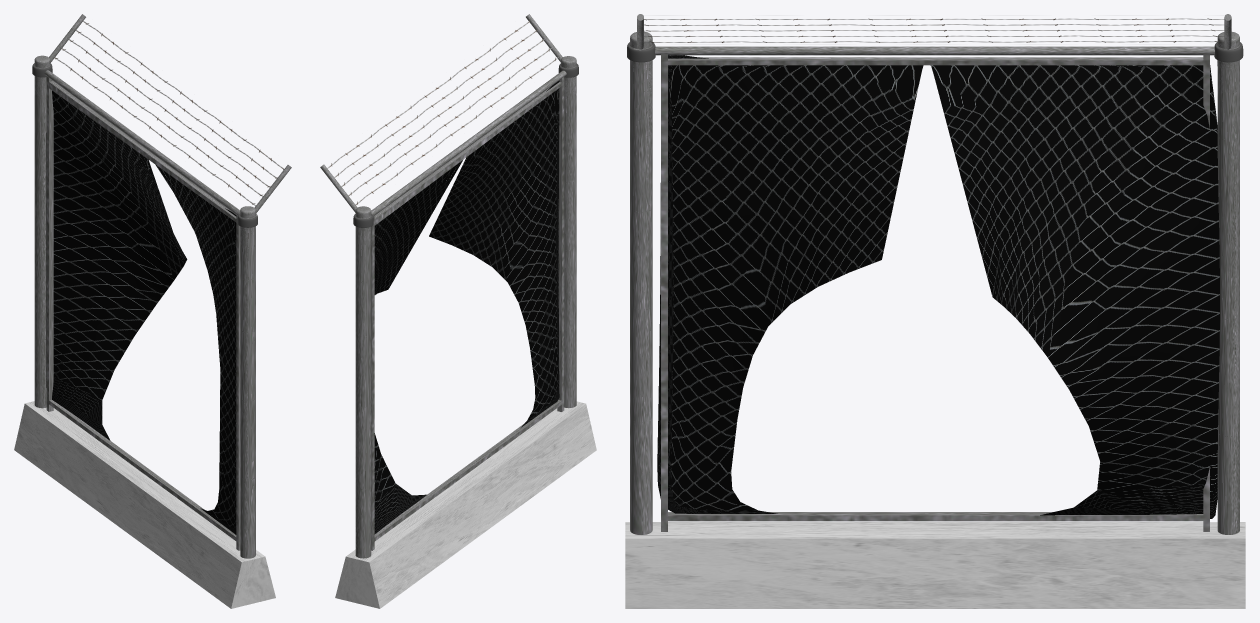
File: brocken_pubg_barrier.glb
3 renders of one model, left to right at view 1: azimuth 30°, elevation 25°; view 2: azimuth 150°, elevation 25°; view 3: azimuth 270°, elevation 25°, orthographic. The views are drawn at different scales.
Visible parts, largest first — view 1: pCube2, pCube1, pCube3, pCylinder1, pCylinder4, pCube4, pCylinder3; view 2: pCube2, pCube1, pCube3, pCylinder4, pCylinder1, pCube4, pCylinder3; view 3: pCube2, pCube1, pCube3, pCylinder1, pCylinder4, pCylinder3, pCube4.
Part boxes in pixels (x1,y1,x2,y2): pCube2: [46, 90, 236, 534]; pCube1: [14, 401, 275, 608]; pCube3: [46, 76, 240, 550]; pCylinder1: [237, 206, 257, 558]; pCylinder4: [32, 55, 52, 408]; pCube4: [53, 20, 283, 205]; pCylinder3: [44, 70, 240, 215]; pCube2: [374, 80, 559, 534]; pCube1: [335, 401, 596, 608]; pCube3: [371, 77, 564, 550]; pCylinder4: [353, 206, 373, 558]; pCylinder1: [558, 56, 578, 408]; pCube4: [327, 20, 558, 204]; pCylinder3: [371, 70, 566, 215]; pCube2: [657, 55, 1219, 518]; pCube1: [625, 522, 1245, 608]; pCube3: [661, 54, 1209, 531]; pCylinder1: [627, 31, 655, 534]; pCylinder4: [1214, 32, 1243, 534]; pCylinder3: [655, 46, 1214, 55]; pCube4: [644, 18, 1223, 42].
Bounding box in the file's own units: 6.47 × 27.75 × 25.69.
5 materials, 4 textured.
